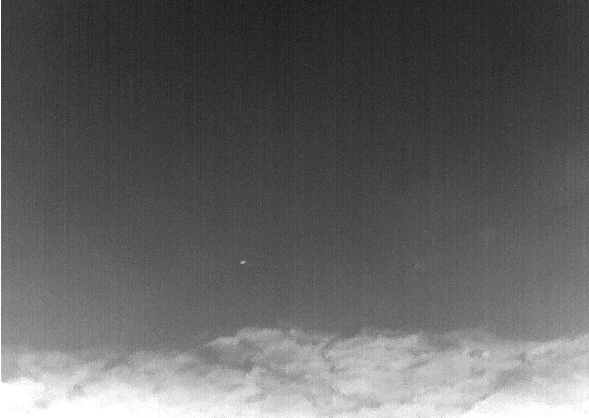dim target: (237, 258, 248, 266)
